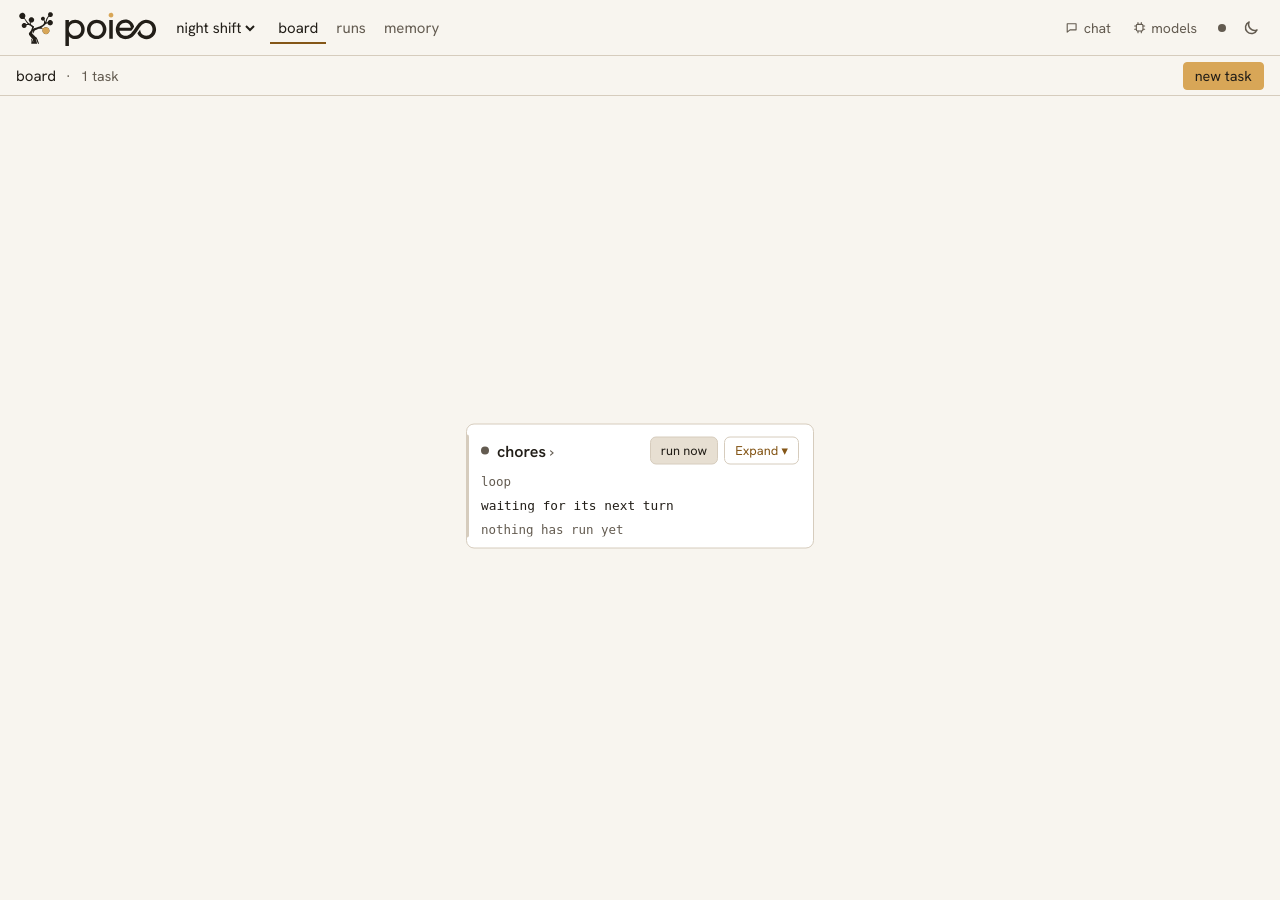
the toggle opens the models panel for the project on screen, and the tabs stay put
Click the button "models" at coordinates (1165, 28), box [1124,14,1206,40]
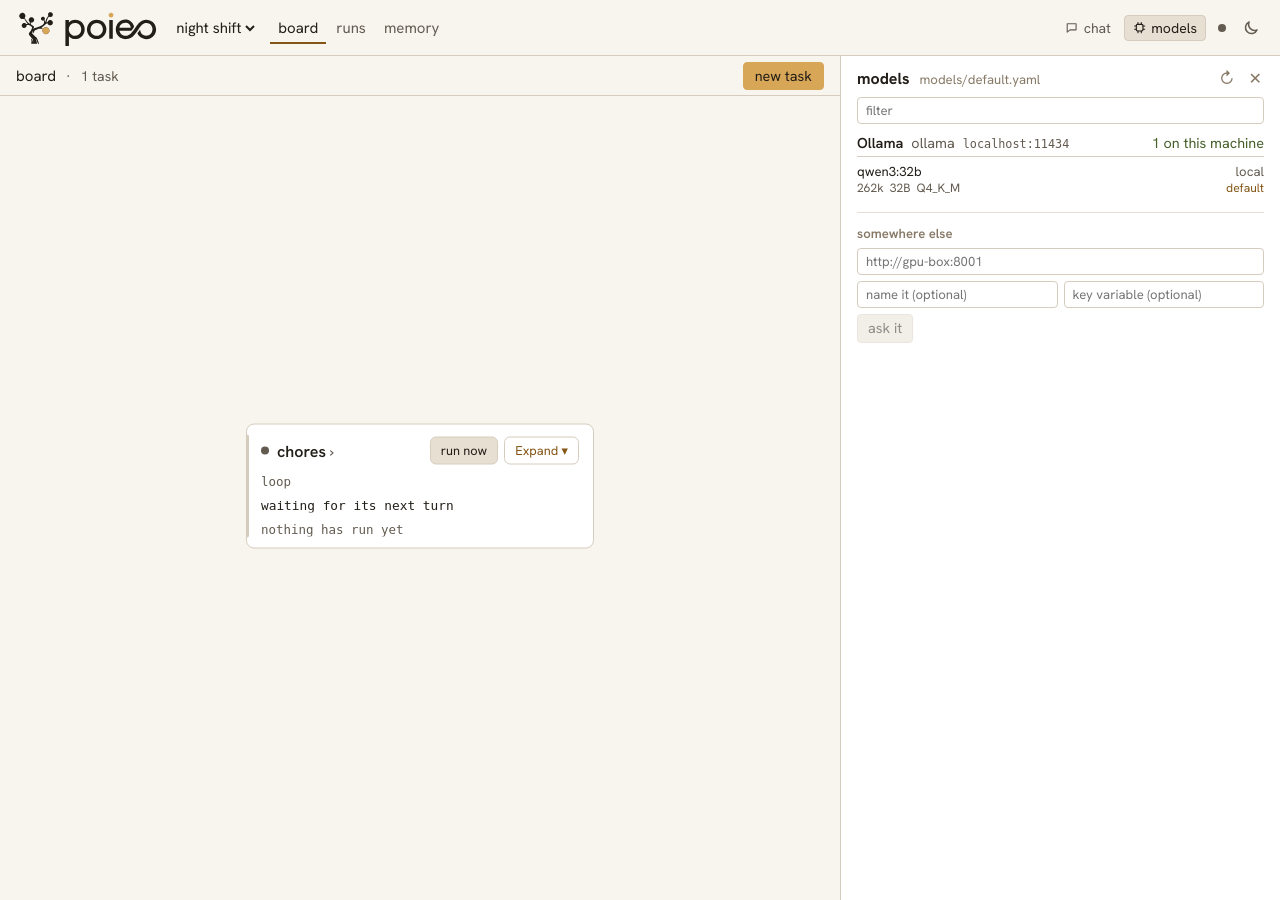
Expected: the element with class "models" is shown, [840,56,1279,899]
